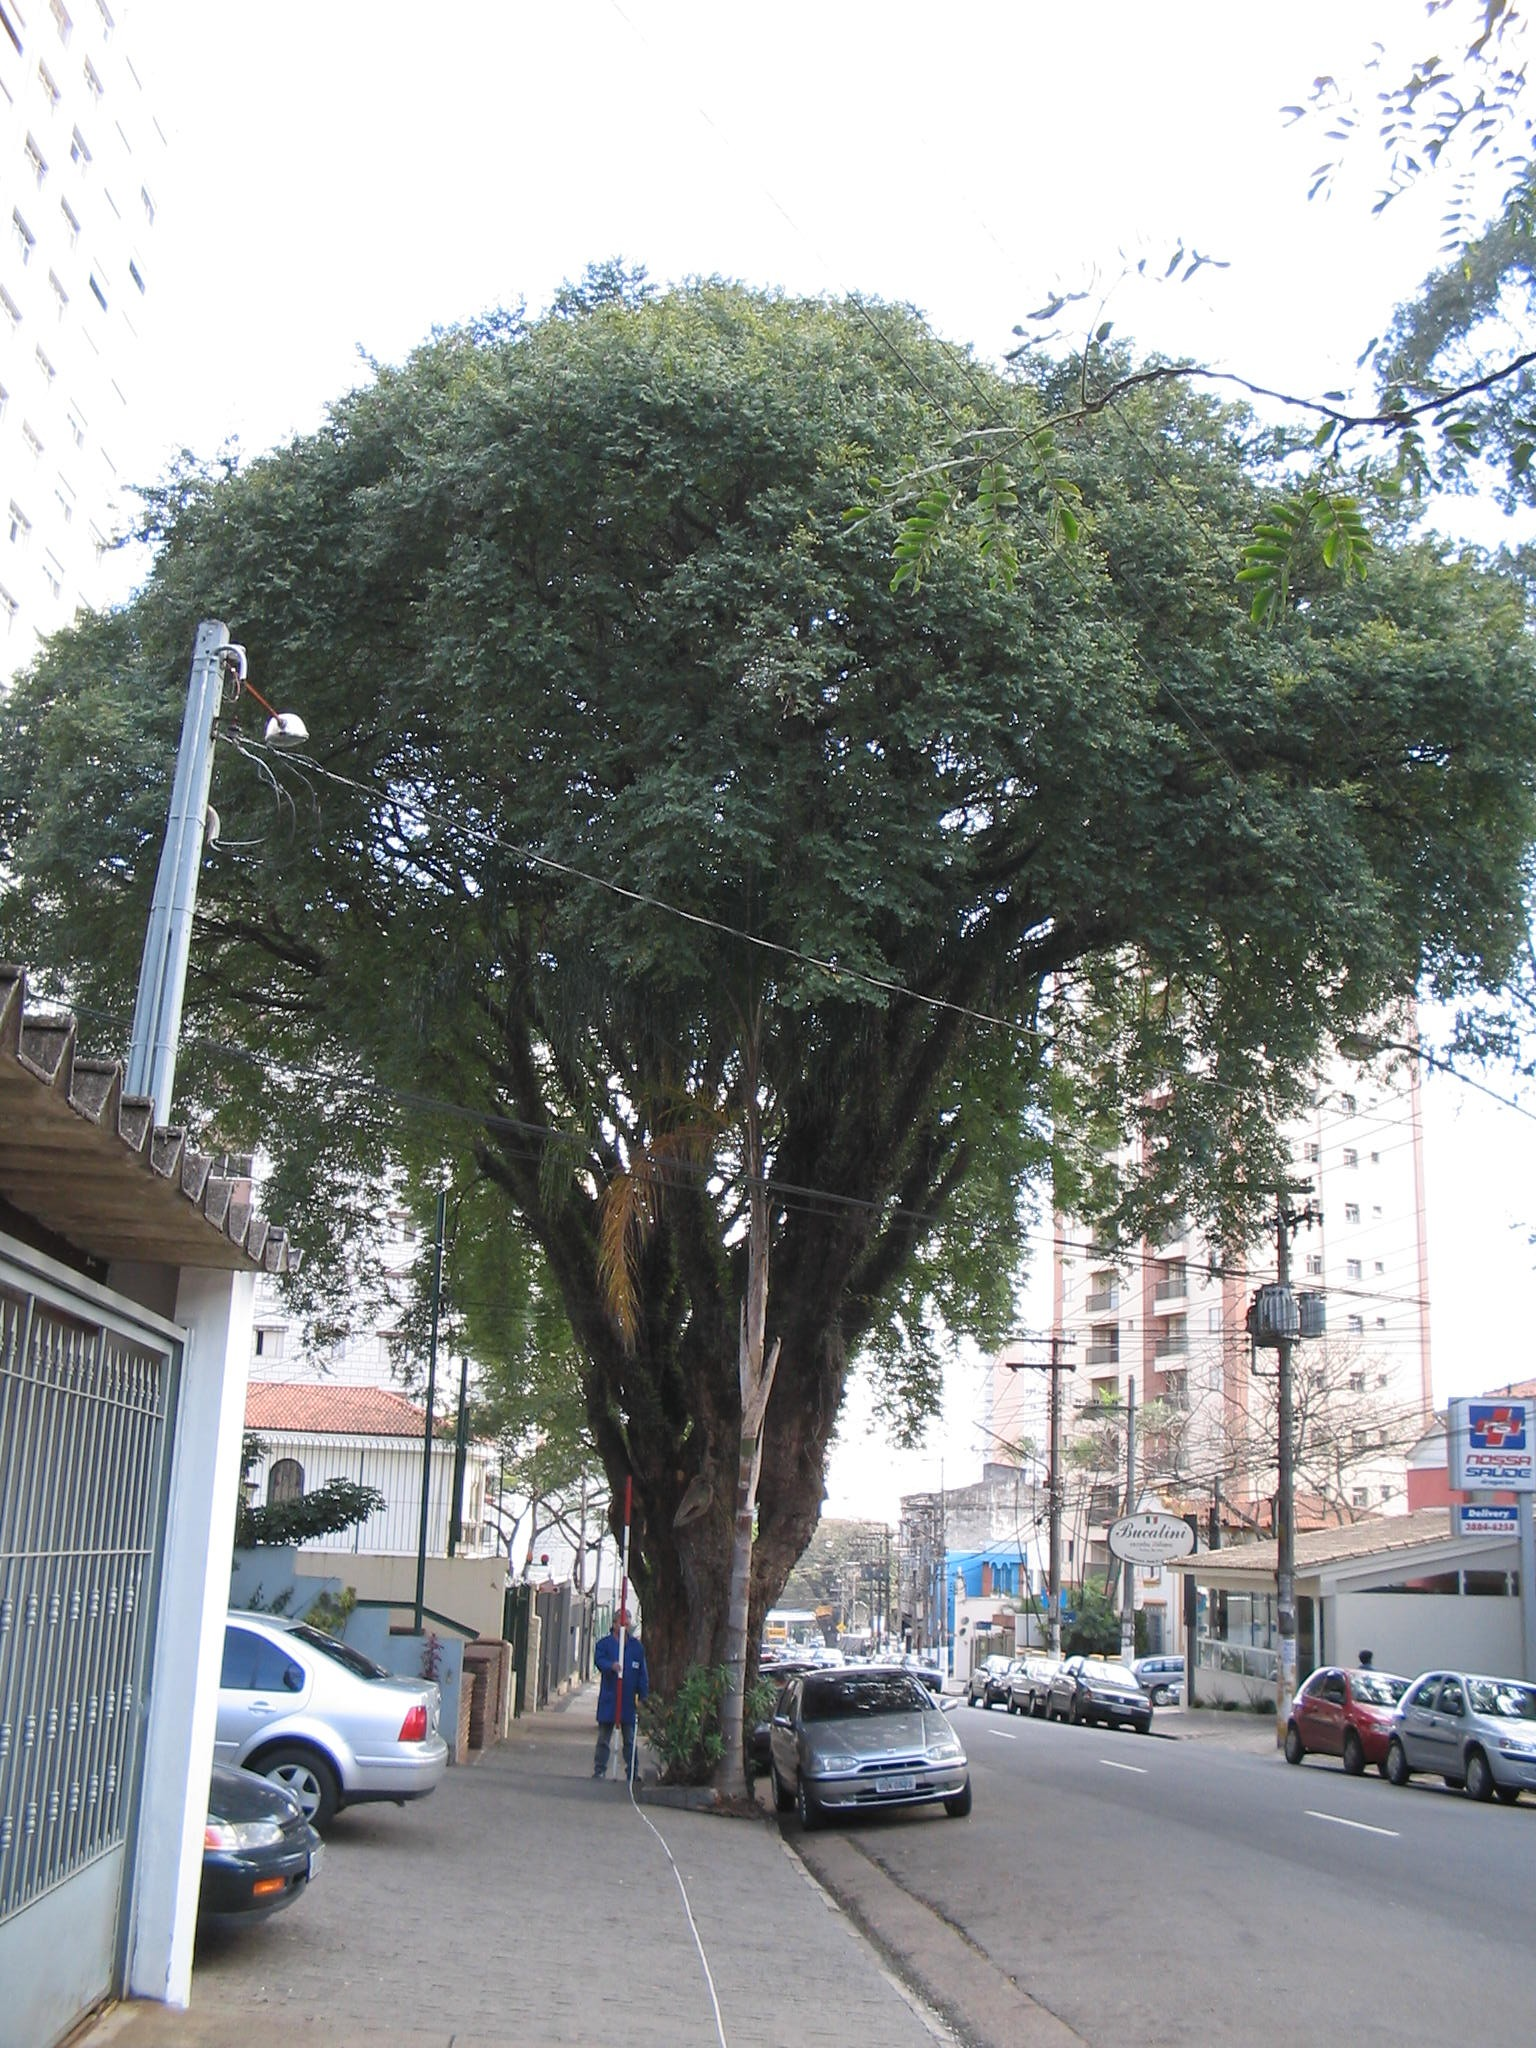crown: (11, 268, 1533, 1247)
stem: (634, 1593, 795, 1775)
stick: (602, 1476, 645, 1782)
tree: (3, 261, 1536, 1785)
